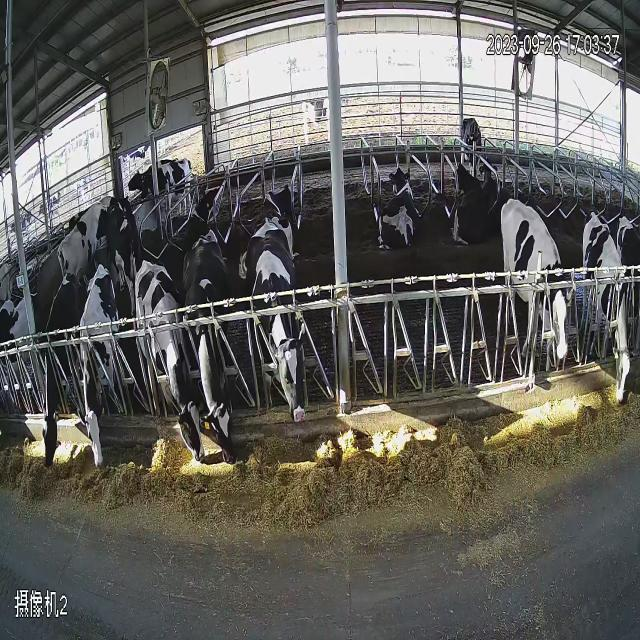drinking: (54, 178, 126, 272), (143, 163, 194, 214)
feeding: (247, 220, 331, 521), (502, 193, 582, 494), (136, 257, 224, 527), (584, 210, 638, 503), (182, 223, 238, 464), (79, 261, 126, 507), (36, 266, 86, 496)
lying down: (376, 138, 432, 266), (448, 162, 492, 255), (262, 158, 302, 224), (189, 169, 221, 243)
standing: (288, 86, 354, 154), (96, 202, 140, 276), (455, 101, 497, 174)
